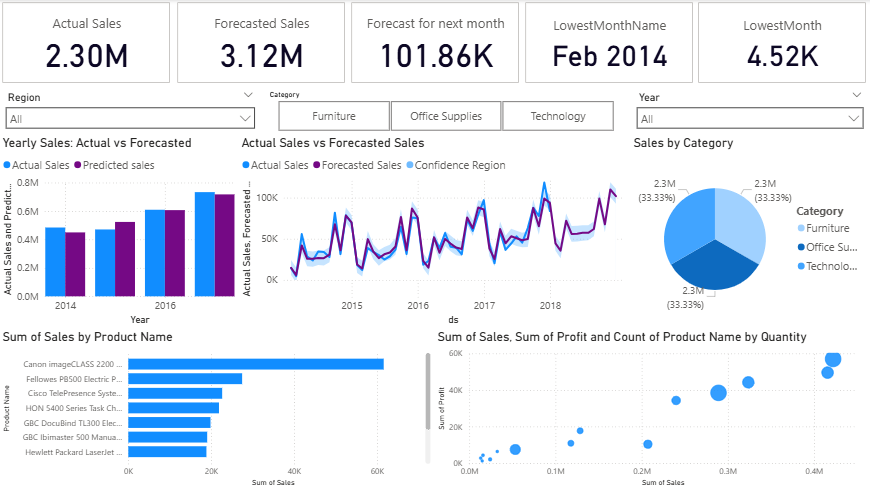

What the dashboard file says about the page in this screenshot:
{"tool":"powerbi","page":{"name":"Page 1","canvas":[1280,720],"ordinal":0},"visuals":[{"type":"lineChart","title":"Actual Sales vs Forecasted Sales","fields":{"Category":["forecast_results.ds"],"Y":["Avg(MonthlyActuals.Total Sales)","Avg(forecast_results.yhat)","Avg(forecast_results.yhat_upper)","Avg(forecast_results.yhat_lower)"]},"box":[351.3,200.3,576.3,284],"z":0},{"type":"clusteredColumnChart","title":"Yearly Sales: Actual vs Forecasted","fields":{"Category":["MonthlyActuals.Year"],"Y":["Sum(MonthlyActuals.Total Sales)","Sum(forecast_results.yhat)"]},"box":[0,200.3,351.3,284],"z":1000},{"type":"pieChart","title":"Sales by Category","fields":{"Category":["Superstore.Category"],"Y":["Sum(MonthlyActuals.Total Sales)"]},"box":[927.6,200.3,352.7,284],"z":2000},{"type":"barChart","fields":{"Category":["Superstore.Product Name"],"Y":["Sum(Superstore.Sales)"]},"box":[0,484.4,639.5,236],"z":3000},{"type":"scatterChart","fields":{"Y":["Sum(Superstore.Profit)"],"X":["Sum(Superstore.Sales)"],"Category":["Superstore.Quantity"],"Size":["CountNonNull(Superstore.Product Name)"]},"box":[639.5,484.4,640.8,236],"z":4000},{"type":"cardVisual","fields":{"Data":["Sum(Superstore.Sales)"]},"box":[0,0,256.6,129],"z":5000},{"type":"cardVisual","fields":{"Data":["Sum(forecast_results.yhat)"]},"box":[256.6,0,256.6,129],"z":6000},{"type":"cardVisual","fields":{"Data":["Sum(forecast_results.yhat)"]},"box":[513.2,0,256.6,129],"z":7000},{"type":"cardVisual","fields":{"Data":["MonthlyActuals.LowestMonthName","MonthlyActuals.LowestMonth"]},"box":[768.4,0,511.8,129],"z":8000},{"type":"slicer","fields":{"Values":["Superstore.Region"]},"box":[0,129,385.6,71.4],"z":9000},{"type":"slicer","fields":{"Values":["Superstore.Category"]},"box":[385.6,129,542,71],"z":10000},{"type":"slicer","fields":{"Values":["forecast_results.Year"]},"box":[927.6,129,352.7,71.4],"z":11000}]}

Visuals, with their boxes in screenshot pixels (x1, y1, x2, y2), scaled from the page's 1280x720 canvas onto the 870x489 screenshot:
"Actual Sales vs Forecasted Sales" lineChart: <region>239, 136, 630, 329</region>
"Yearly Sales: Actual vs Forecasted" clusteredColumnChart: <region>0, 136, 239, 329</region>
"Sales by Category" pieChart: <region>630, 136, 869, 329</region>
barChart - Superstore.Product Name x Sum(Superstore.Sales): <region>0, 329, 435, 488</region>
scatterChart - Sum(Superstore.Profit) x Sum(Superstore.Sales): <region>435, 329, 869, 488</region>
cardVisual - Sum(Superstore.Sales): <region>0, 0, 174, 88</region>
cardVisual - Sum(forecast_results.yhat): <region>174, 0, 349, 88</region>
cardVisual - Sum(forecast_results.yhat): <region>349, 0, 523, 88</region>
cardVisual - MonthlyActuals.LowestMonthName x MonthlyActuals.LowestMonth: <region>522, 0, 869, 88</region>
slicer - Superstore.Region: <region>0, 88, 262, 136</region>
slicer - Superstore.Category: <region>262, 88, 630, 136</region>
slicer - forecast_results.Year: <region>630, 88, 869, 136</region>
